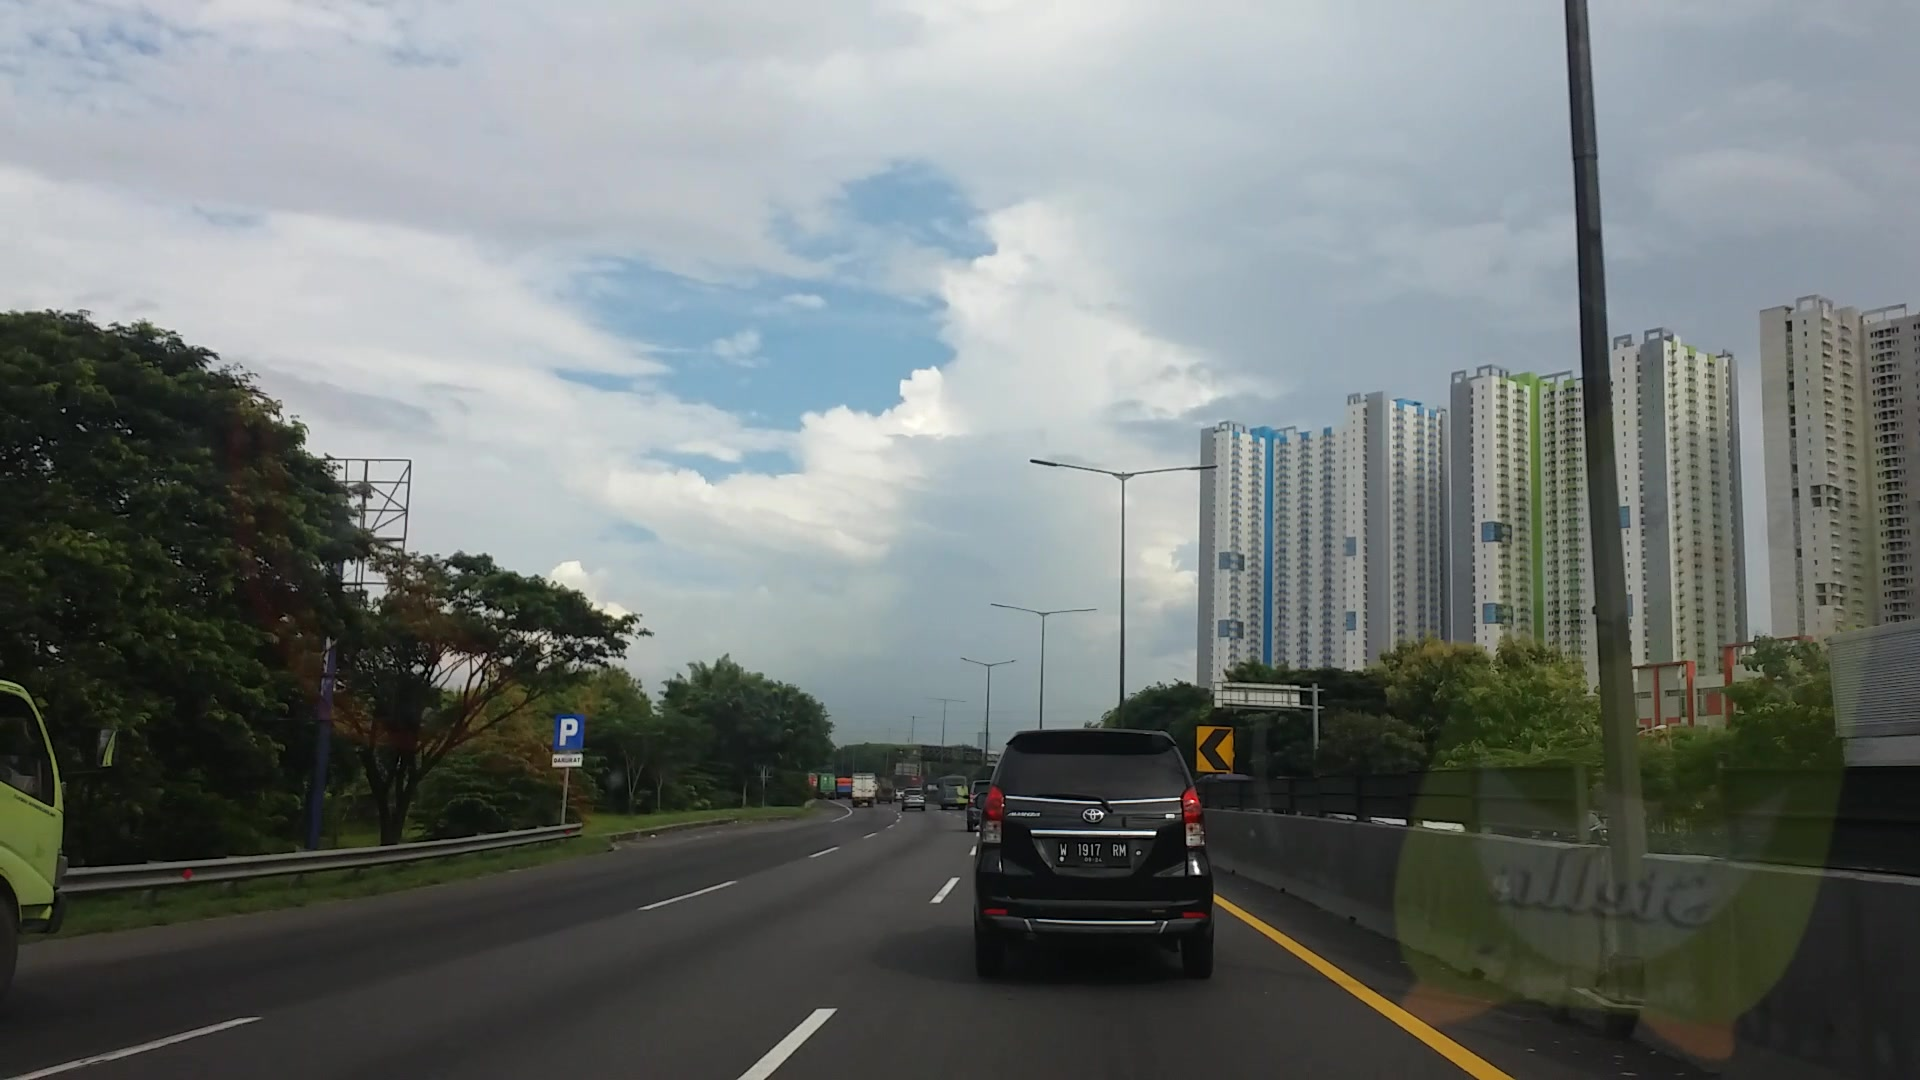plate_positive: (1055, 841, 1129, 865)
